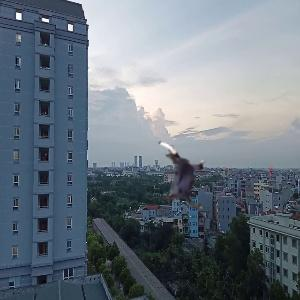drone: (143, 140, 221, 218)
